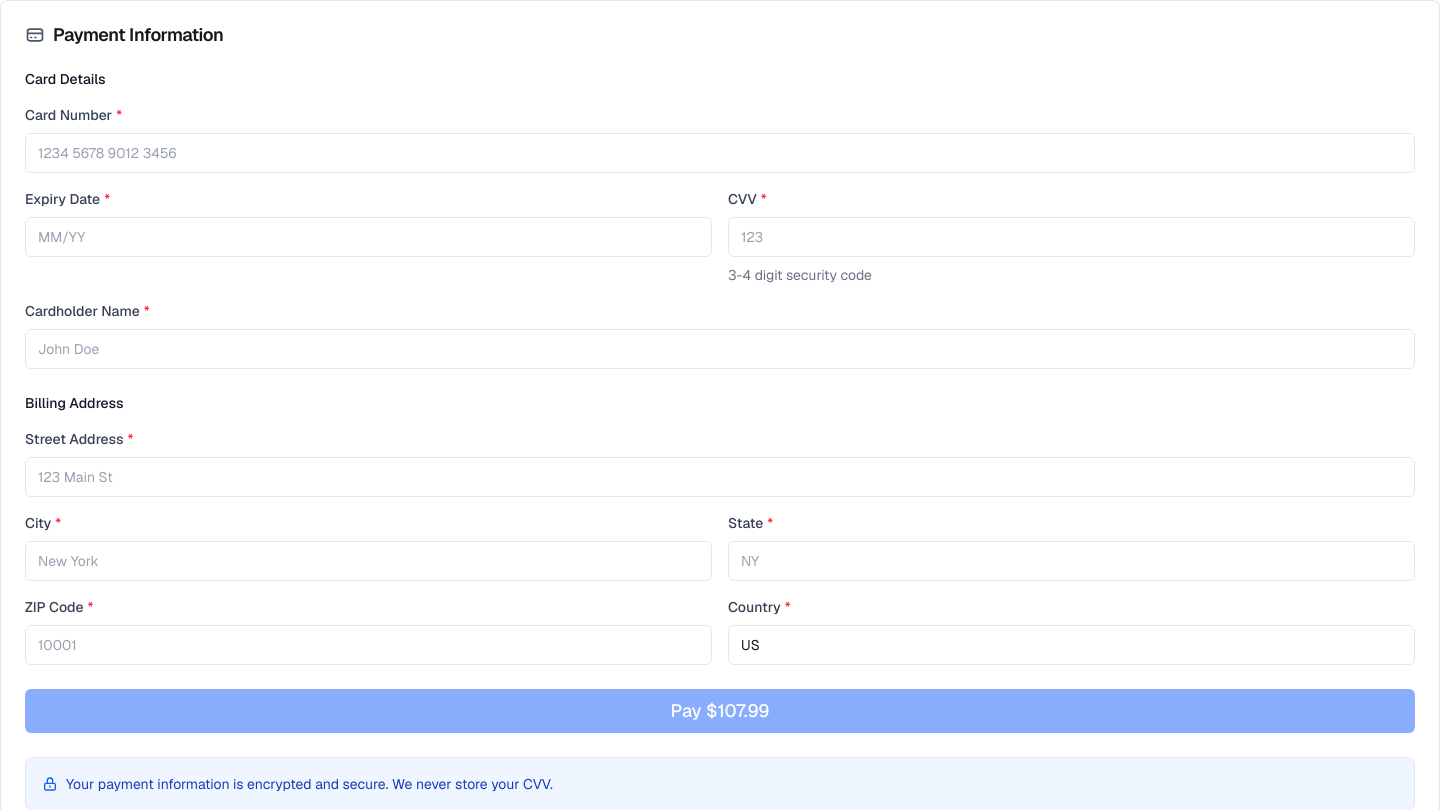
Test: PaymentForm Component › Form Input Formatting › should format card number with spaces
Type "4532015112830366" into the field labelled "Card Number*" at [720, 153], box [25,133,1415,173]
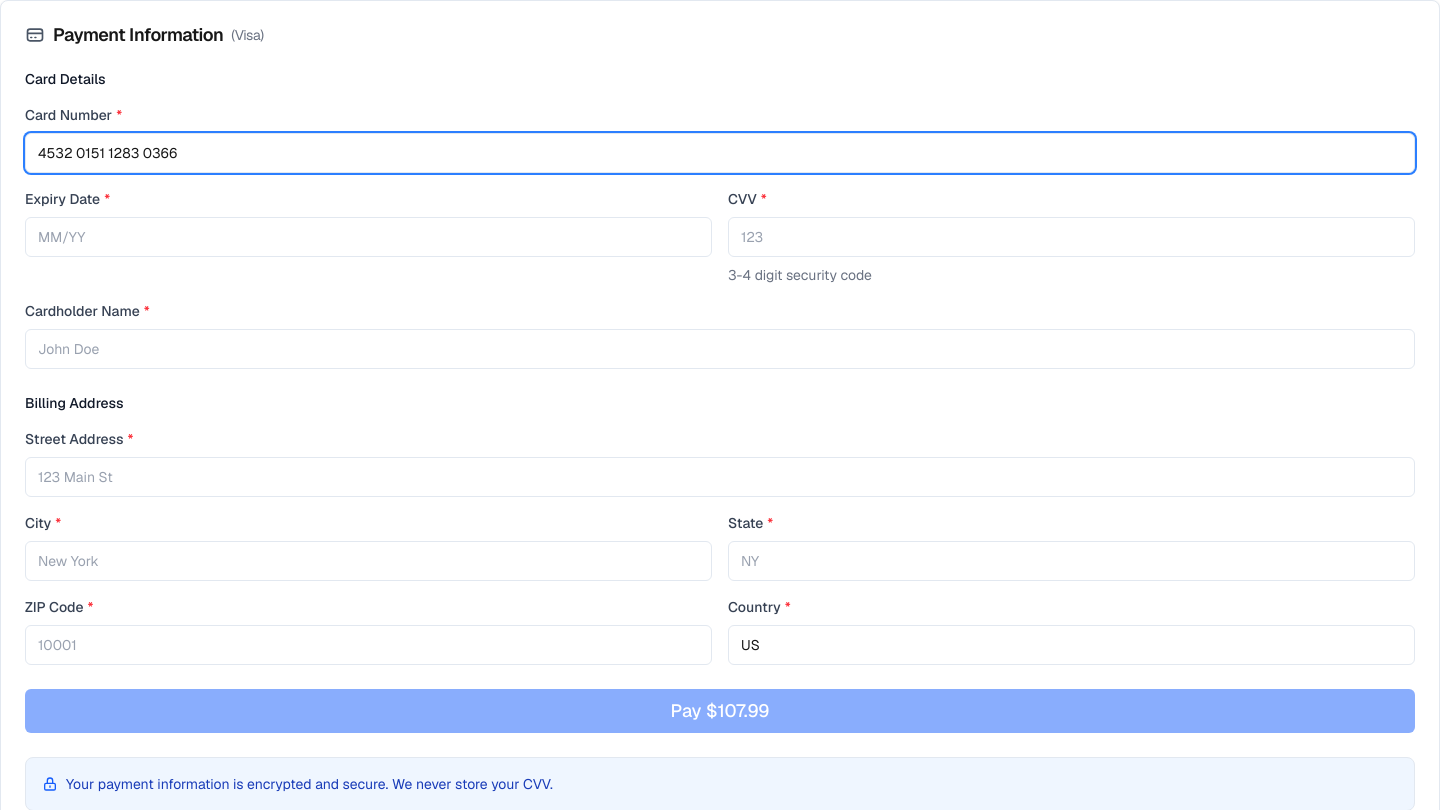
Expected: the field labelled "Card Number*" holds "4532 0151 1283 0366", [25,133,1415,173]
